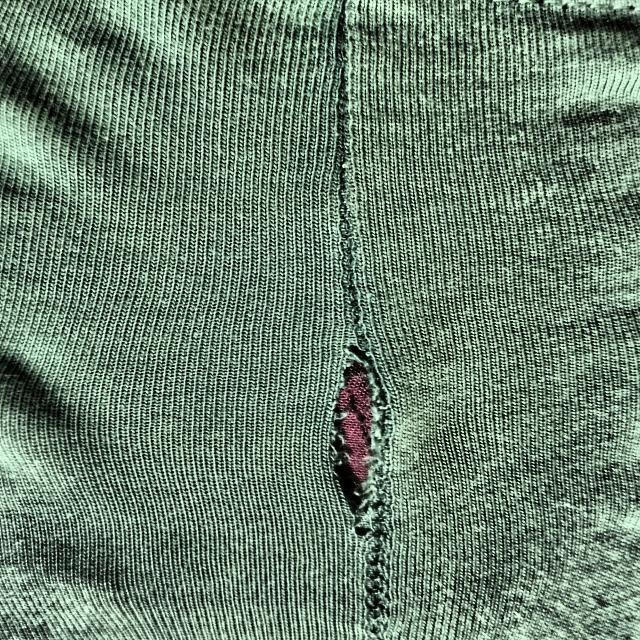seam: (267, 294, 455, 601)
